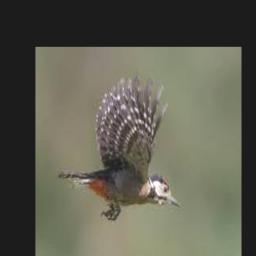Woodpecker: (59, 77, 184, 219)
